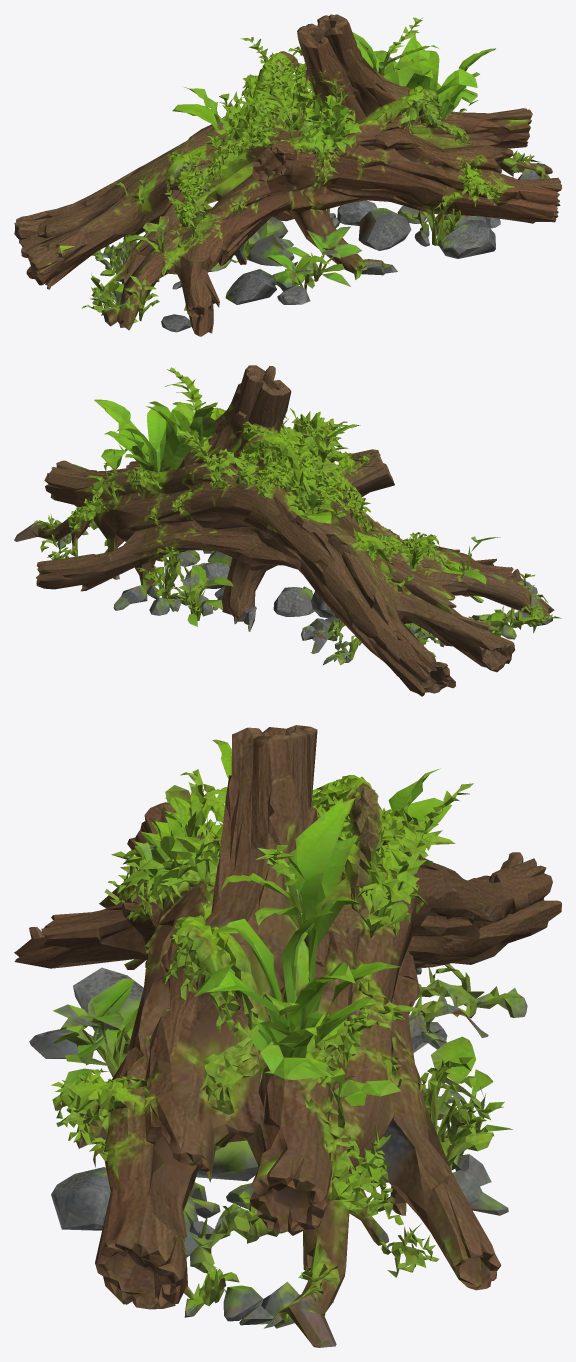
Rendered from sunken_stump.glb.
3 renders of one model, top to bottom at view 1: azimuth 30°, elevation 25°; view 2: azimuth 150°, elevation 25°; view 3: azimuth 270°, elevation 25°, orthographic. The views are drawn at different scales.
Parts seen in each view (by area): view 1: output_unwrapped; view 2: output_unwrapped; view 3: output_unwrapped.
Boxes of the visible parts, <box> form: output_unwrapped: <box>14,14,561,336</box>; output_unwrapped: <box>14,365,561,696</box>; output_unwrapped: <box>14,725,561,1347</box>.
Bounding box in the file's own units: 1.89 × 0.7935 × 0.9374.
Materials: 1 (1 with a texture image).
